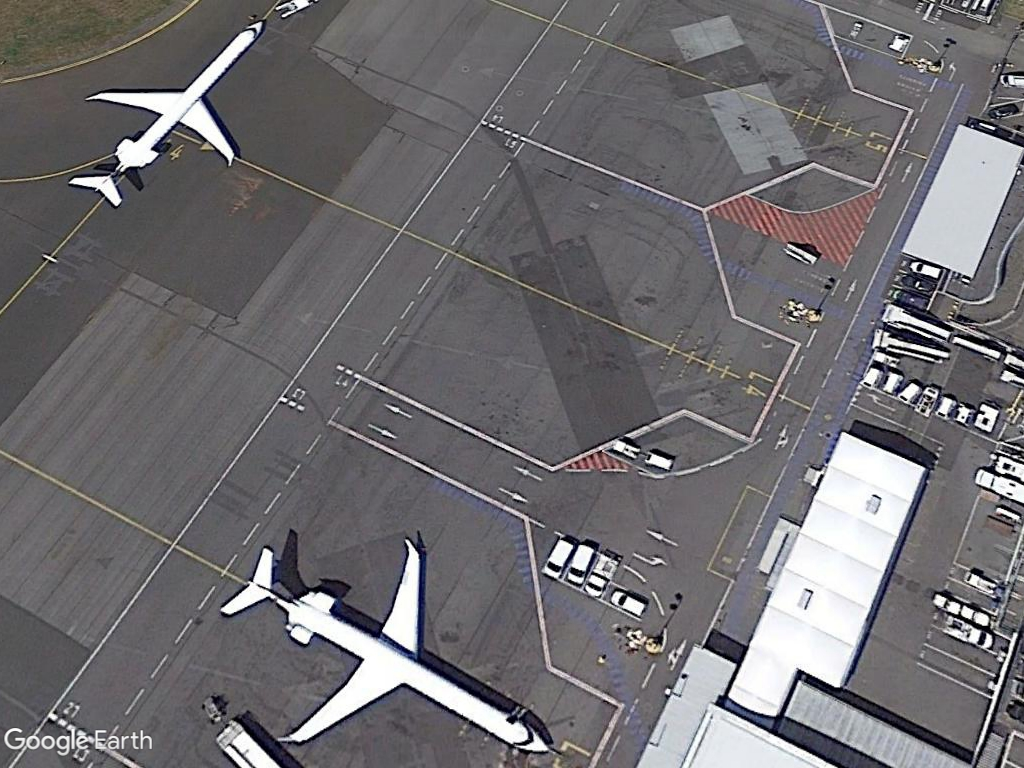chartered: (211, 528, 567, 758), (67, 15, 273, 211)
stairtruck: (865, 322, 951, 365), (880, 302, 953, 341)
